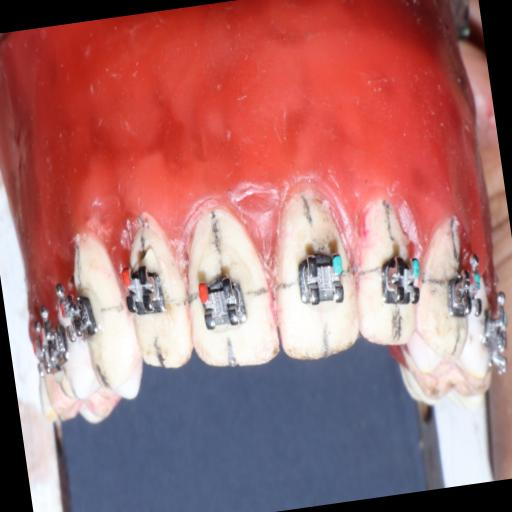correct_brace: (289, 240, 353, 314)
incorrect_brace: (196, 270, 250, 334)
